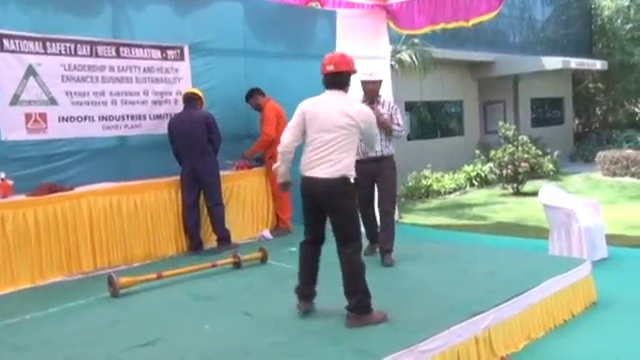helmet: (319, 50, 359, 74), (357, 65, 387, 85), (180, 87, 206, 107)
helmet_off: (244, 85, 270, 114)
helmet_on: (317, 48, 360, 100), (357, 64, 388, 104), (178, 84, 207, 115)
person: (272, 49, 387, 328), (166, 85, 240, 253), (355, 66, 404, 270), (242, 84, 295, 237)
